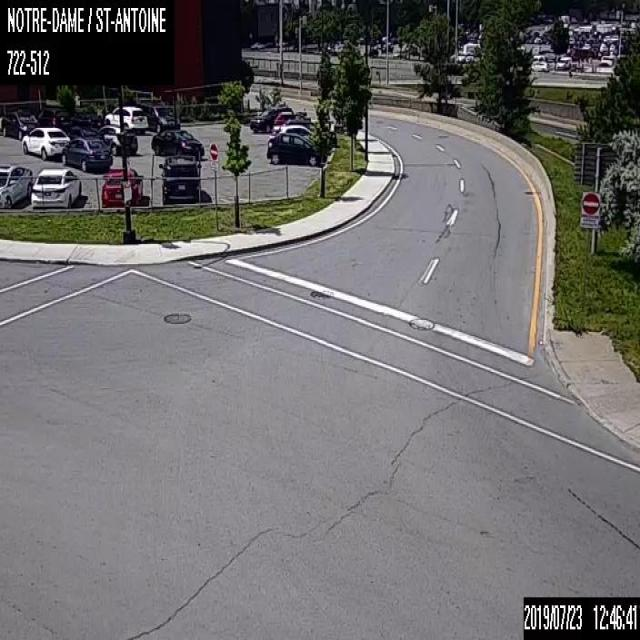vehicle: (30, 166, 81, 211), (158, 154, 202, 206), (61, 136, 112, 170), (272, 117, 336, 144), (22, 125, 70, 159), (101, 168, 144, 205), (267, 133, 320, 163), (151, 128, 204, 157), (0, 163, 32, 209), (105, 104, 147, 134), (2, 108, 40, 139), (100, 123, 137, 154), (140, 104, 180, 132), (250, 105, 292, 131), (36, 106, 70, 132), (71, 110, 103, 128), (279, 123, 315, 139), (69, 125, 101, 140), (530, 60, 548, 72), (555, 55, 570, 69)
